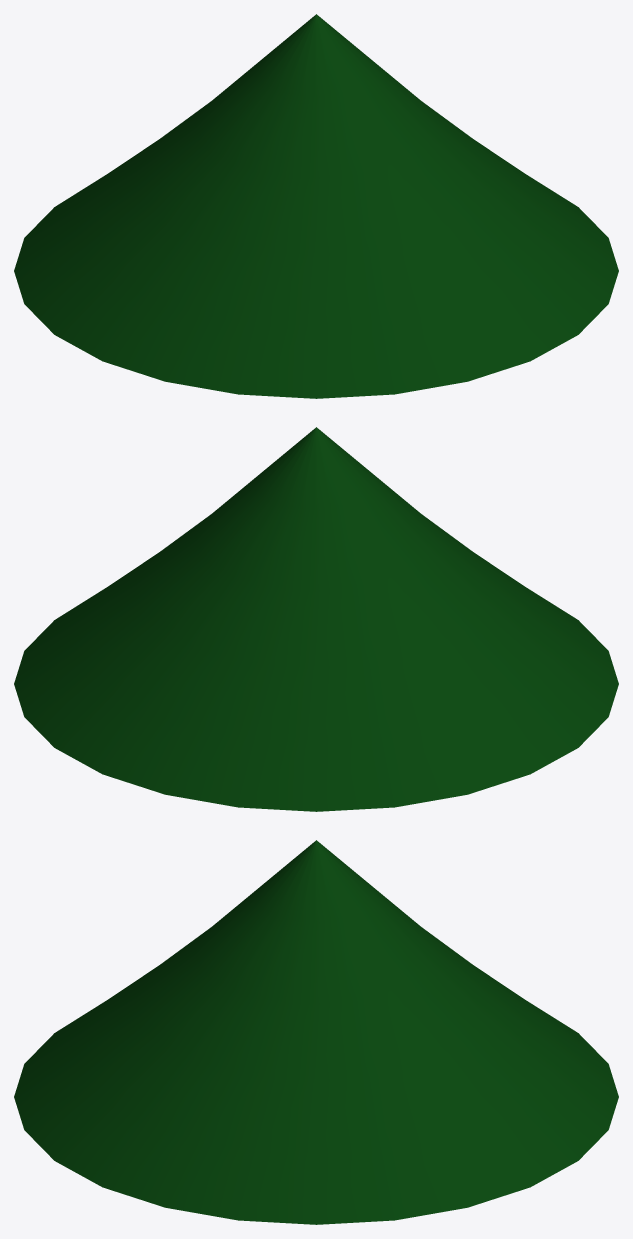
Rendered from Christmas Cone.FBX.
The picture shows the model from 3 angles, top to bottom: view 1: azimuth 30°, elevation 25°; view 2: azimuth 150°, elevation 25°; view 3: azimuth 270°, elevation 25°; orthographic projection.
Visible parts, largest first — view 1: Cone001; view 2: Cone001; view 3: Cone001.
Part boxes in pixels (box(x1,y1,x2,y2)): Cone001: box(14, 14, 618, 398); Cone001: box(14, 427, 618, 811); Cone001: box(14, 840, 618, 1224).
Size of the model in its own units: 78.97 by 40.43 by 78.97.
